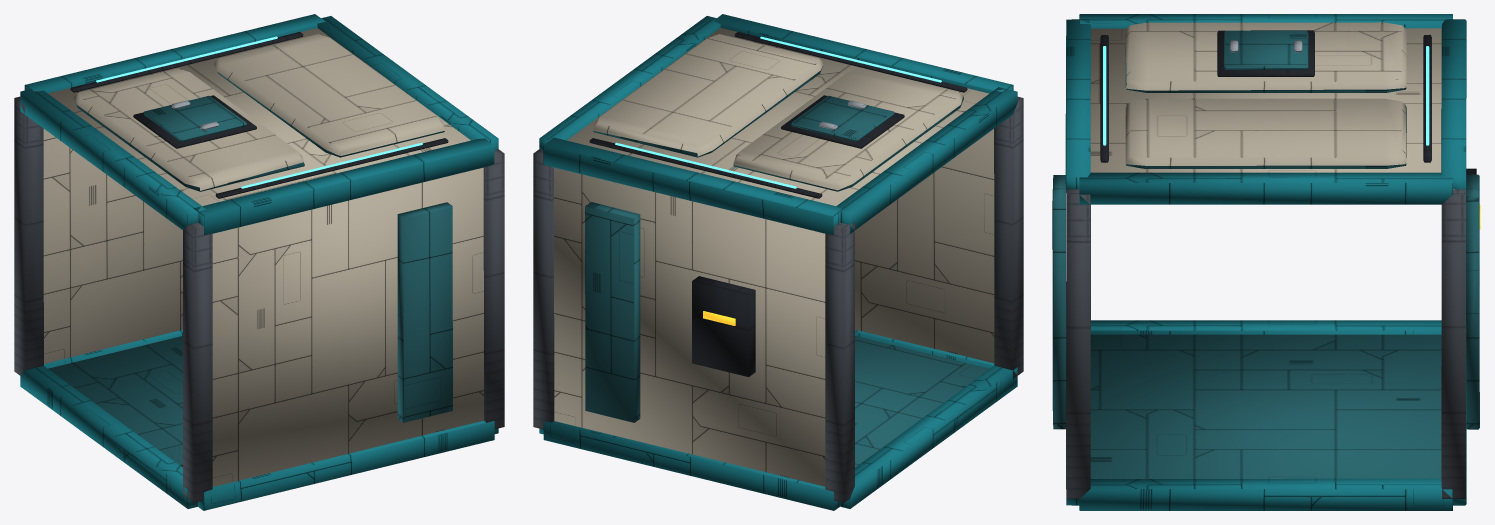
Rendered from airlock_vestibule_lod2.glb.
3 renders of one model, left to right at view 1: azimuth 30°, elevation 25°; view 2: azimuth 150°, elevation 25°; view 3: azimuth 270°, elevation 25°, orthographic. The views are drawn at different scales.
Visible parts, largest first — view 1: LOD2_Hull, LOD2_Livery, LOD2_Armor, LOD2_Mechanical, LOD2_MechanicalDark, LOD2_Lights_Cyan; view 2: LOD2_Hull, LOD2_Livery, LOD2_Armor, LOD2_Mechanical, LOD2_MechanicalDark, LOD2_Lights_Cyan; view 3: LOD2_Armor, LOD2_Hull, LOD2_Livery, LOD2_Mechanical, LOD2_MechanicalDark, LOD2_Lights_Cyan.
Boxes of the visible parts, <box> form: LOD2_Hull: <box>43,28,483,486</box>; LOD2_Livery: <box>20,14,498,510</box>; LOD2_Armor: <box>48,72,452,467</box>; LOD2_Mechanical: <box>14,96,504,502</box>; LOD2_MechanicalDark: <box>70,32,448,198</box>; LOD2_Lights_Cyan: <box>96,36,422,188</box>; LOD2_Hull: <box>554,28,994,486</box>; LOD2_Livery: <box>539,14,1017,510</box>; LOD2_Armor: <box>585,66,989,467</box>; LOD2_Mechanical: <box>533,96,1023,502</box>; LOD2_MechanicalDark: <box>589,32,967,376</box>; LOD2_Lights_Cyan: <box>615,36,941,188</box>; LOD2_Armor: <box>1052,30,1479,478</box>; LOD2_Hull: <box>1090,22,1454,189</box>; LOD2_Livery: <box>1065,14,1466,510</box>; LOD2_Mechanical: <box>1066,189,1465,498</box>; LOD2_MechanicalDark: <box>1100,30,1476,174</box>; LOD2_Lights_Cyan: <box>1103,46,1429,145</box>.
Size of the model in its own units: 4.26 by 4.08 by 4.56.
Materials: 8 (6 with a texture image).
